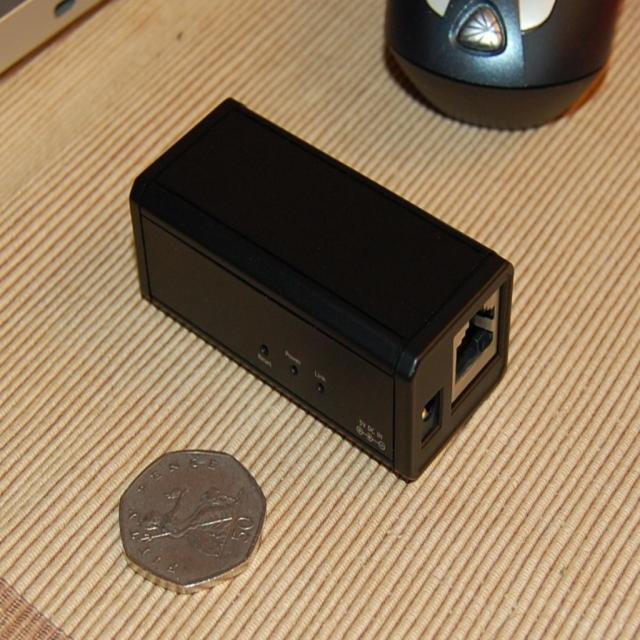Coin: (117, 449, 271, 597)
